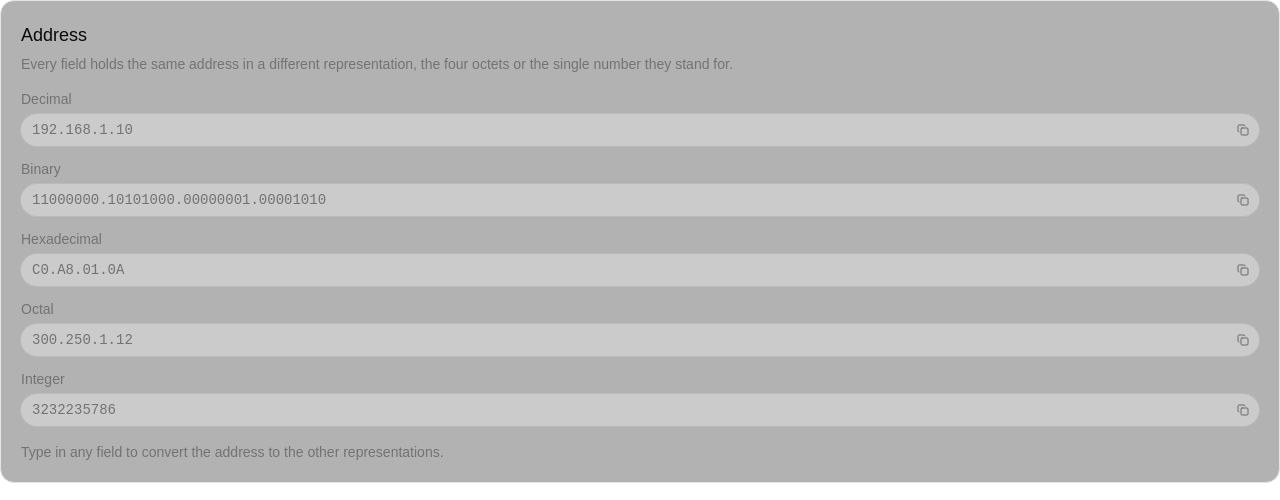
Test case: AddressSection › drops the invalid state as soon as the field parses again
This screenshot has width=1280, height=500.
Type "11000000.10101000.00000001.00001011" into the field labelled "Binary" at (626, 200), box [22, 184, 1231, 216]
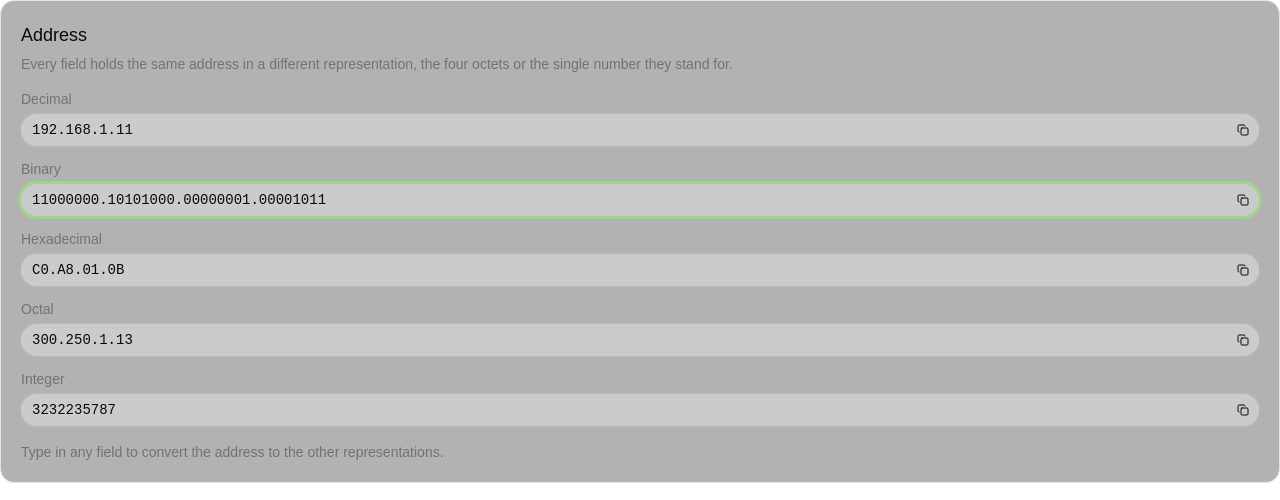
Result: the field labelled "Decimal" holds "192.168.1.11" at [22, 114, 1231, 146]
Replace the text in the field labelled "Binary" with "999" at (626, 200), box [22, 184, 1231, 216]
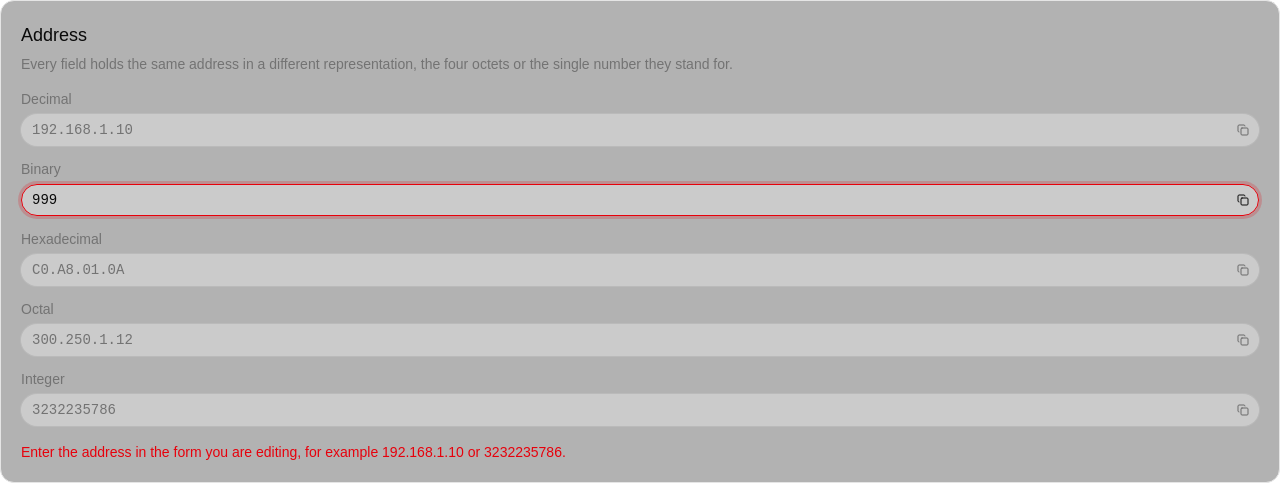
Result: the text "Enter the address in the form you are editing, for example 192.168.1.10 or 3232235786." is shown at [21, 444, 566, 460]
Replace the text in the field labelled "Binary" with "00000000.00000000.00000000.00000001" at (626, 200), box [22, 184, 1231, 216]
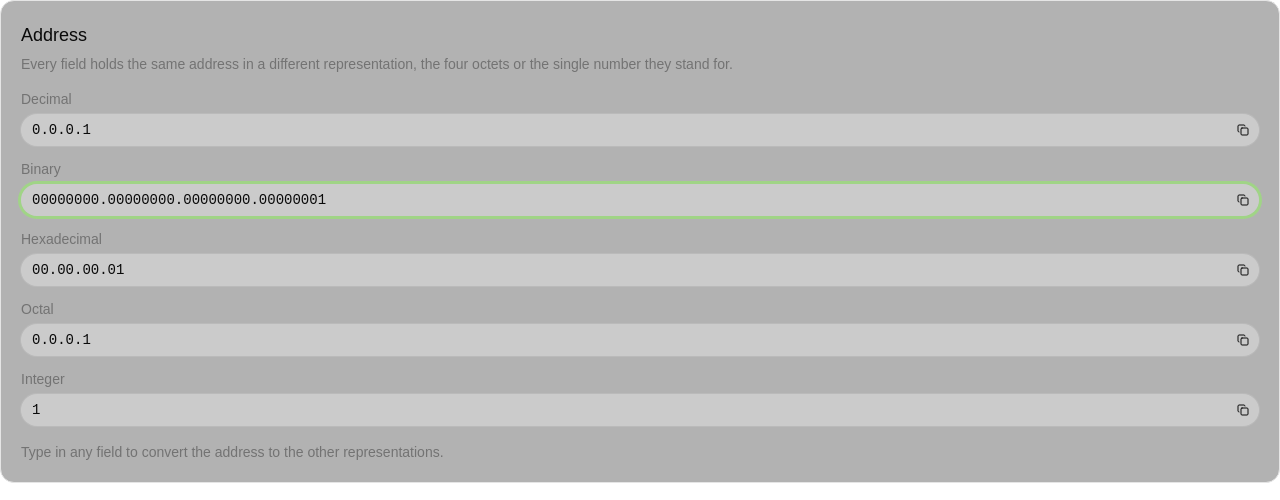
Result: the field labelled "Decimal" holds "0.0.0.1" at [22, 114, 1231, 146]
